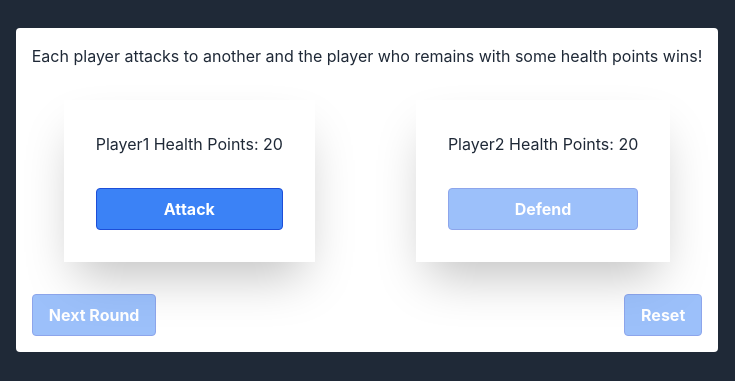
Test: Card Player Component display defnder hit value
Step 1. Click the button "Attack" → point(189, 209), box [96,188,283,230]
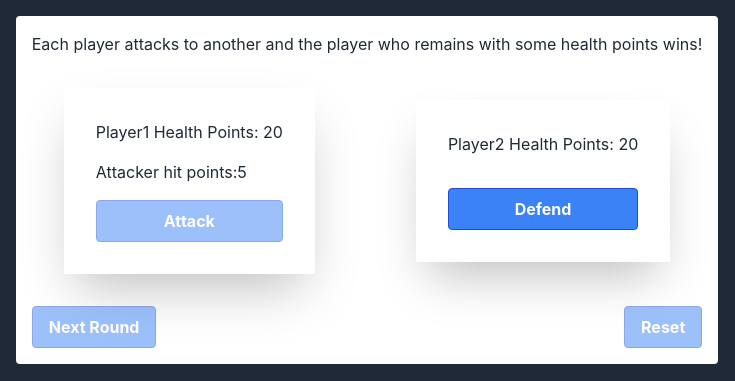
Check: the text "Attacker hit points:5" is shown, box [96,162,247,182]
Step 2. Click the button "Defend" → point(543, 209), box [448,188,638,230]
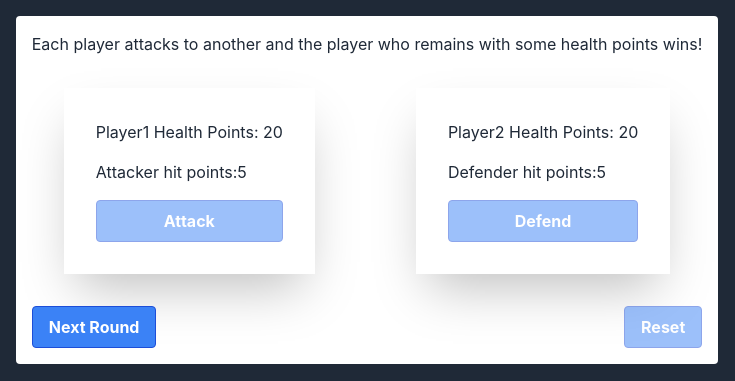
Check: the text "Defender hit points:5" is shown, box [448,162,606,182]
